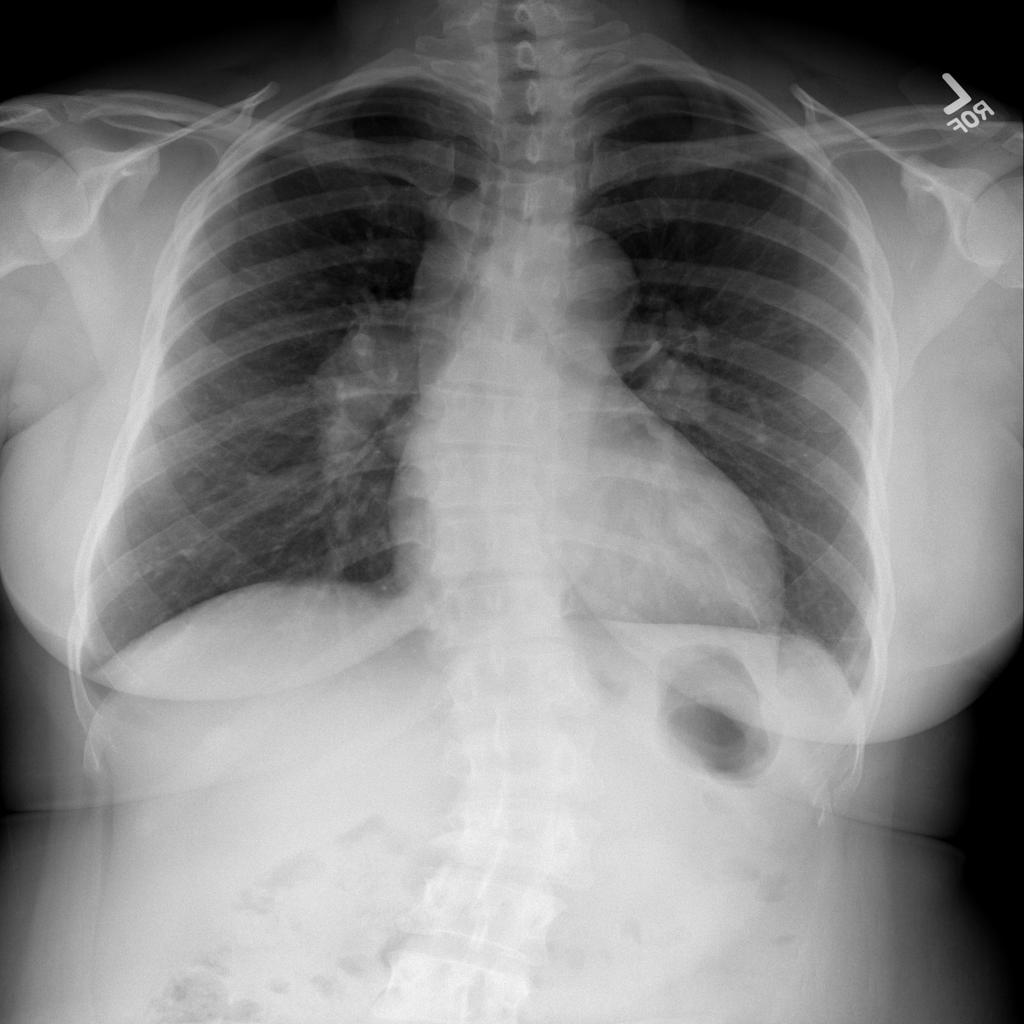nodule: (655, 492, 733, 563), (163, 461, 224, 505)
